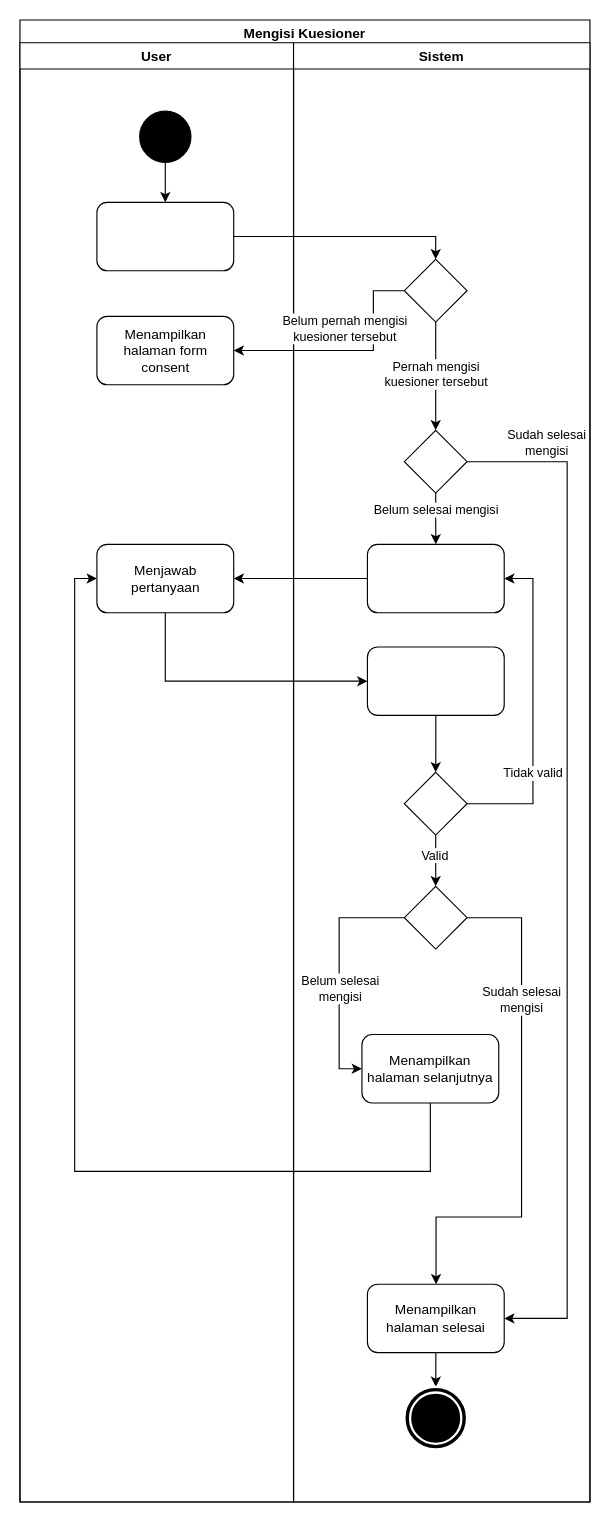
The diagram is 610 pixels wide and 1522 high, and some of its shapes have lost their labels. Here are the shapes that lost their labels. From the top down, the box of each, then its label:
(96, 201, 234, 271): Membuka link kuesioner
(366, 543, 504, 613): Menampilkan daftar pertanyaan
(366, 646, 504, 715): Melakukan validasi
